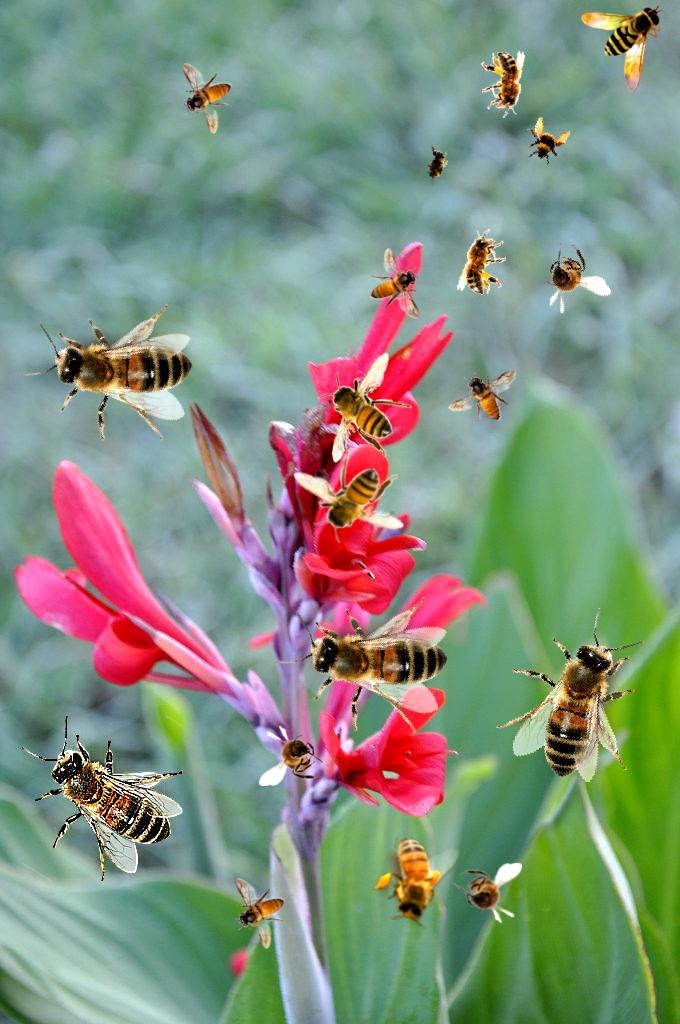Bee: (1, 257, 230, 487), (257, 549, 484, 777), (471, 598, 680, 804), (21, 715, 183, 882), (362, 820, 466, 935), (293, 449, 404, 543), (318, 352, 412, 463), (524, 232, 613, 324), (581, 5, 663, 93), (445, 368, 521, 427), (452, 863, 522, 924), (259, 725, 329, 786), (456, 226, 510, 297), (182, 63, 232, 134), (370, 248, 420, 319), (235, 878, 285, 949), (479, 50, 529, 119), (516, 113, 574, 171), (419, 142, 453, 188)
